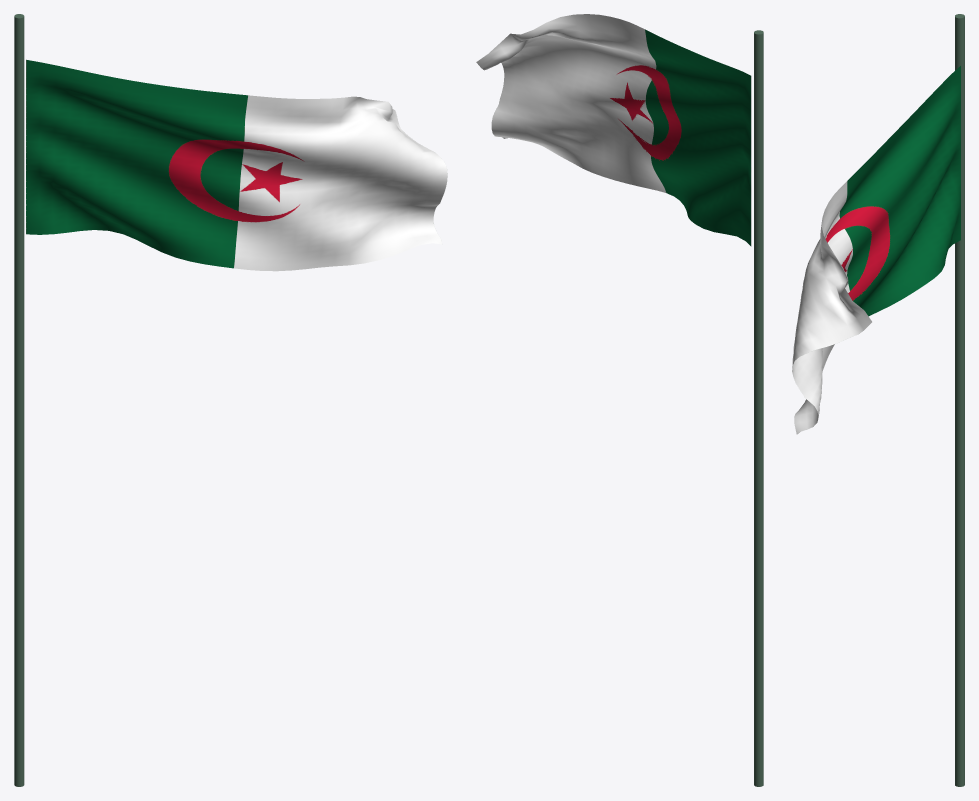
File: Flag_Algeria.gltf
3 renders of one model, left to right at view 1: azimuth 30°, elevation 25°; view 2: azimuth 150°, elevation 25°; view 3: azimuth 270°, elevation 25°, orthographic. The views are drawn at different scales.
Parts seen in each view (by area): view 1: Plane002, Cylinder001; view 2: Plane002, Cylinder001; view 3: Plane002, Cylinder001.
Boxes of the visible parts, x1,y1,x2,y2 form: Plane002: (26,59,447,271); Cylinder001: (14,14,24,786); Plane002: (476,14,751,246); Cylinder001: (754,30,763,786); Plane002: (792,66,960,434); Cylinder001: (955,14,964,786).
Bounding box in the file's own units: 93.76 × 197 × 40.12.
2 materials, 1 textured.
